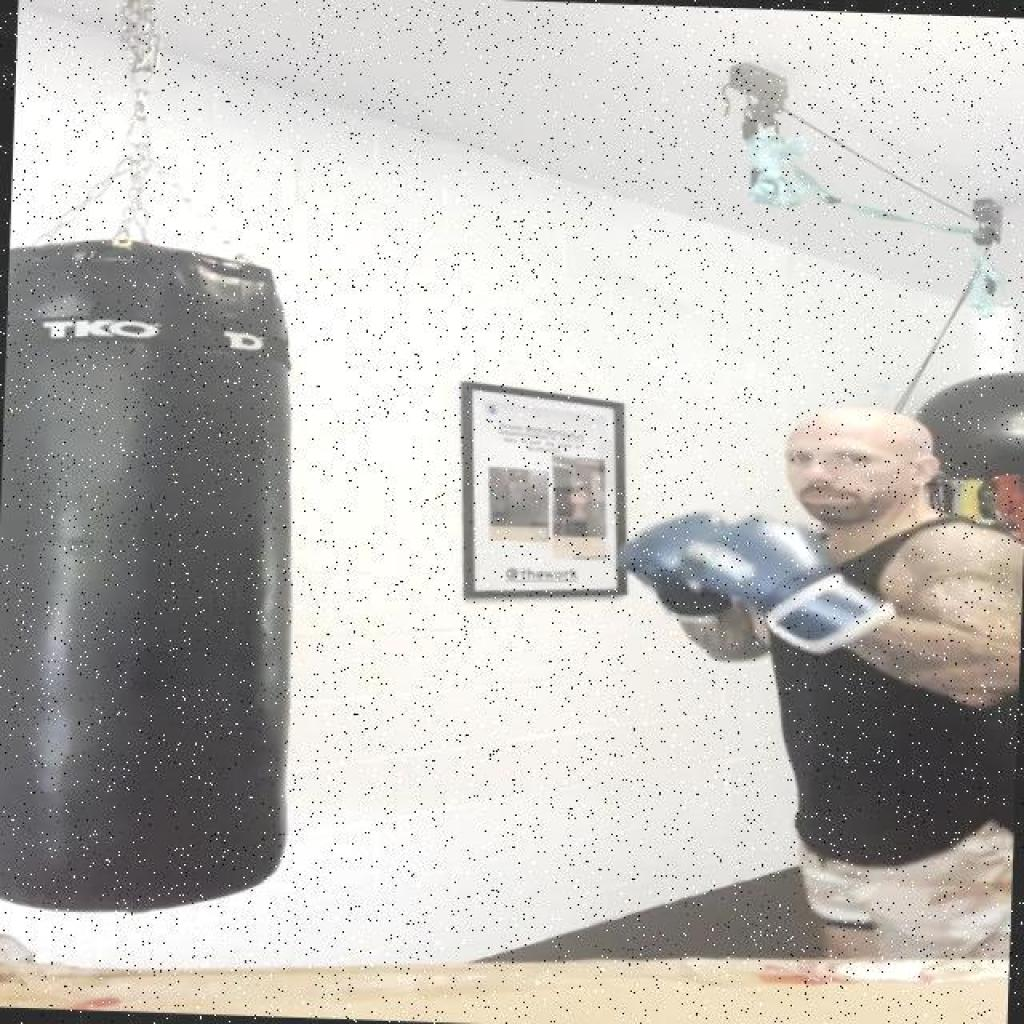bag: (0, 235, 330, 914)
